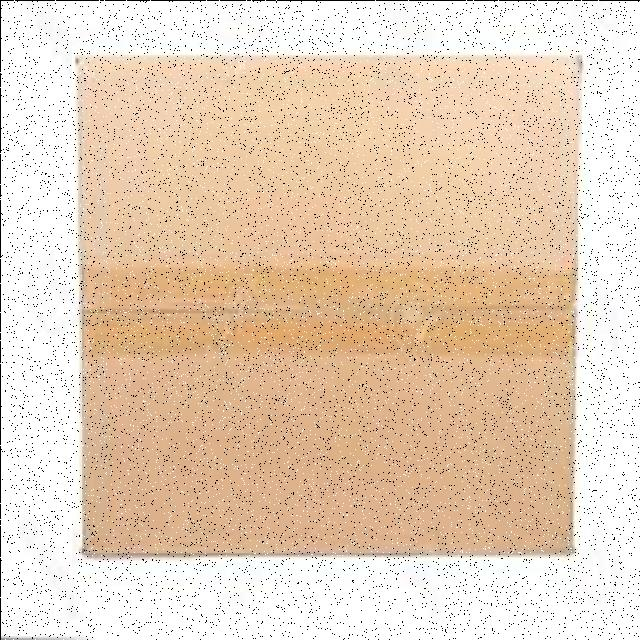normal: (71, 45, 592, 566)
